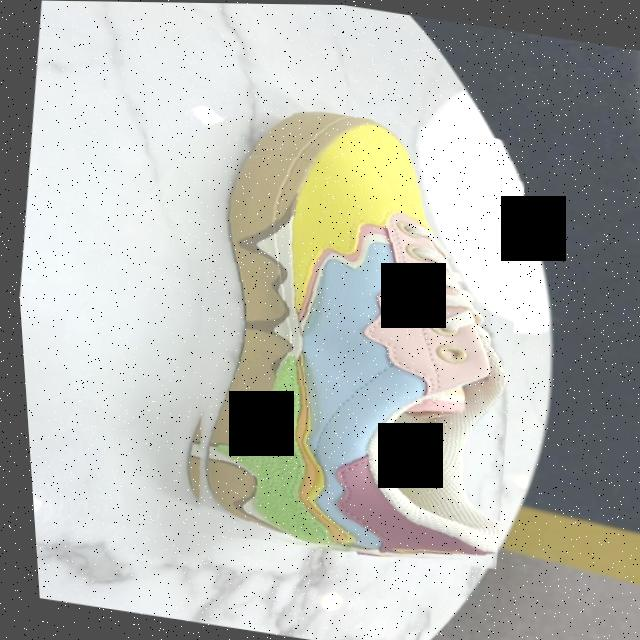shoe: (146, 93, 549, 578)
